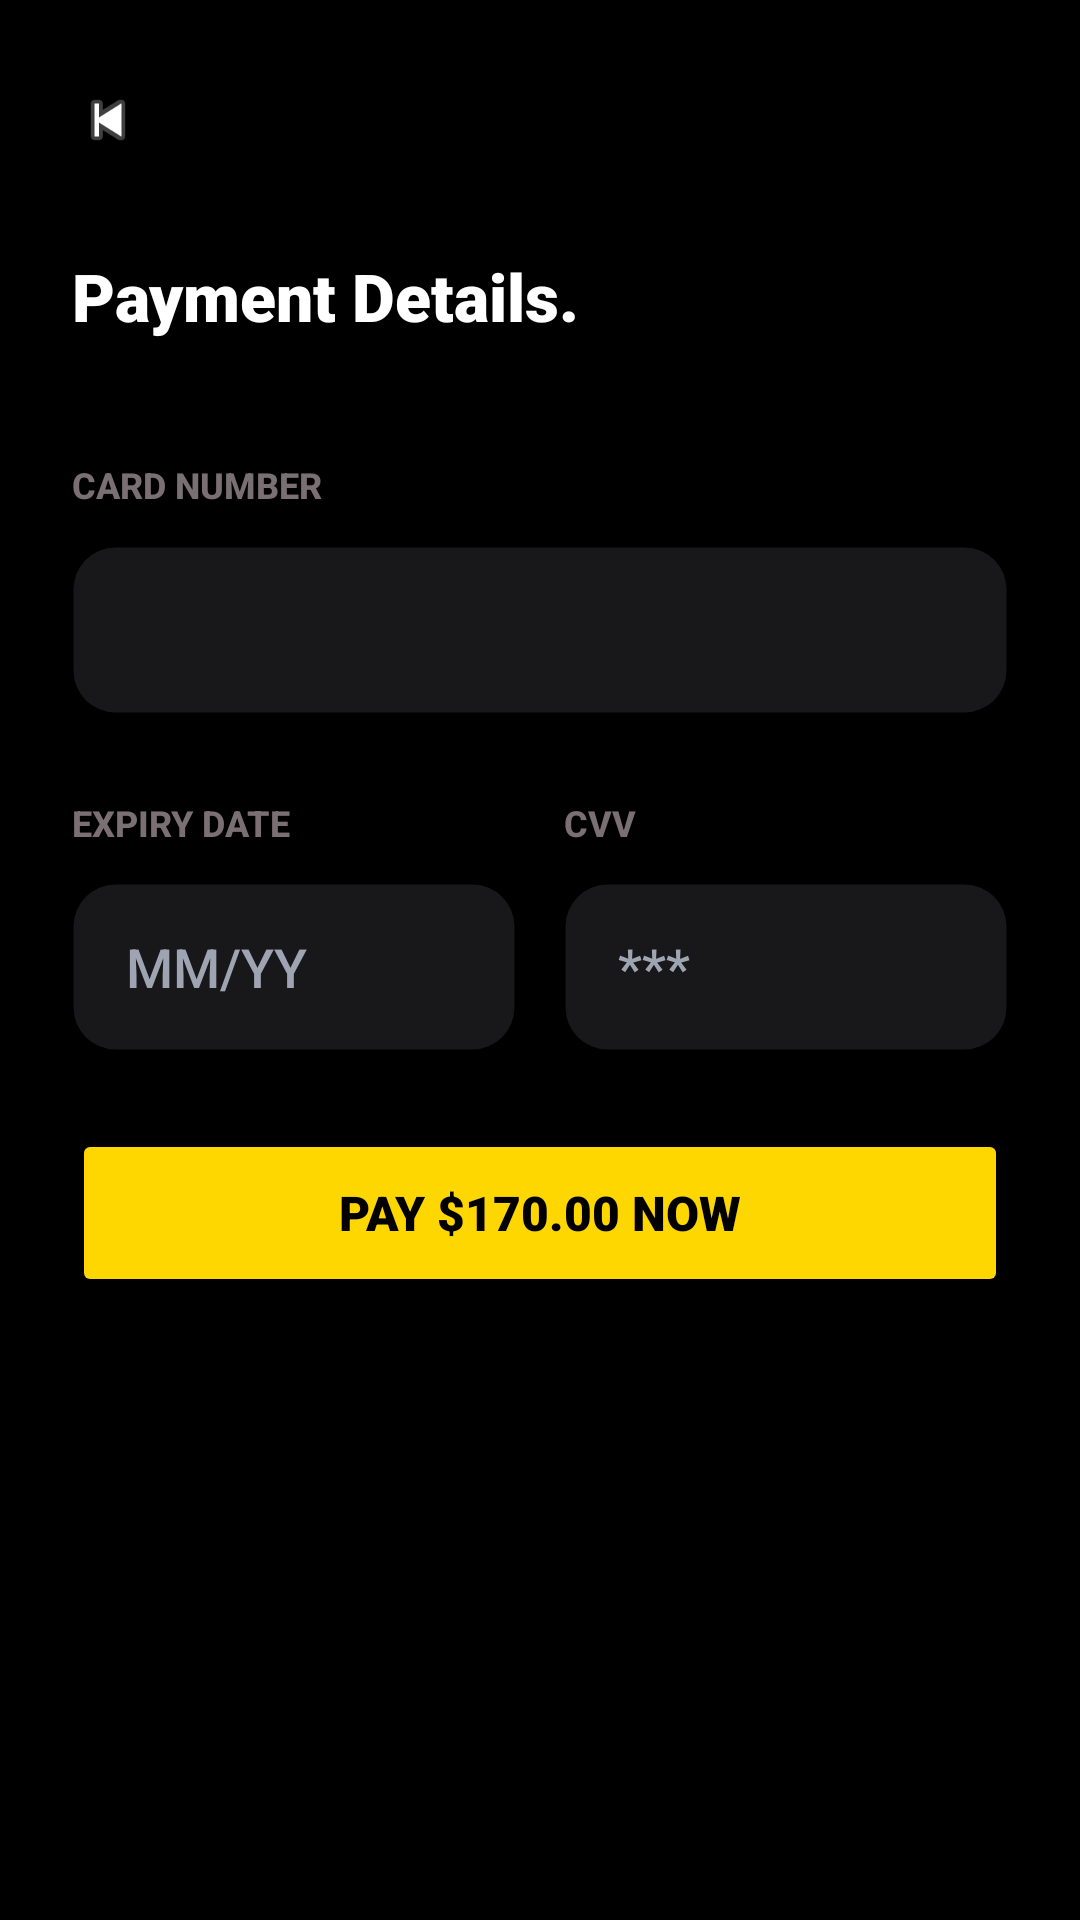

Screen size 1080 × 1920. Icon name, then its box in pixels as [left=x1, top=y1, right=x2, bottom=y2]:
Back: [left=91, top=100, right=125, bottom=140]
